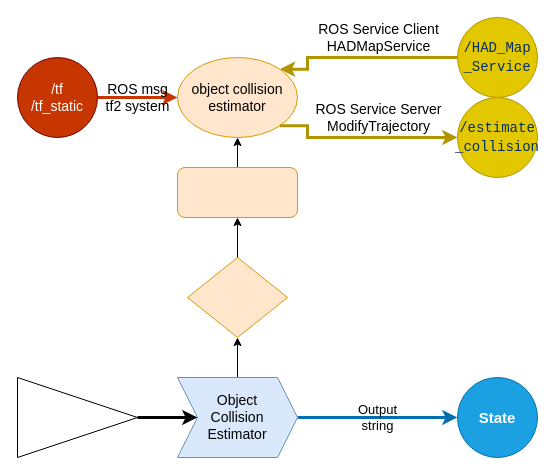
The diagram is 557 pixels wide and 475 high, and some of its shapes have lost their labels. Each missing label, with the centre of its shape:
"CXX FFI Binding" belongs at [237,297].
"Node config: vehicle model planner config" belongs at [77,417].
"Operator C++ API" belongs at [237,192].
